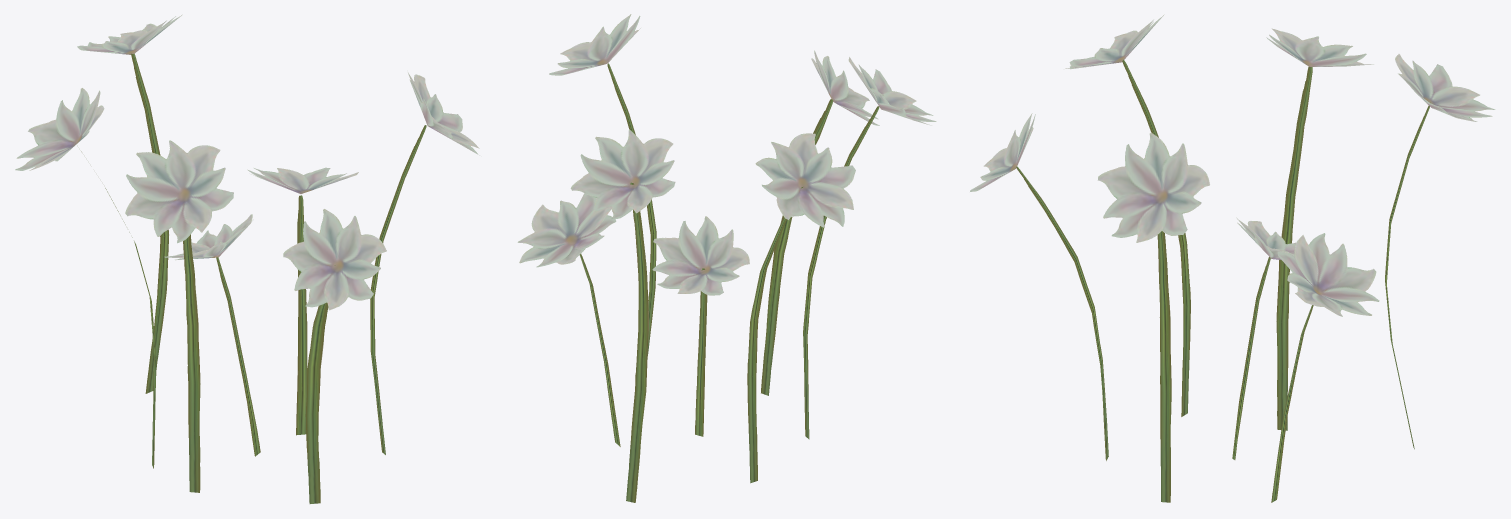
The model's file is SM_Ground_White_Flower_A.fbx.
3 views of the same model, side by side, from view 1: azimuth 30°, elevation 25°; view 2: azimuth 150°, elevation 25°; view 3: azimuth 270°, elevation 25° (orthographic). The views are drawn at different scales.
Parts seen in each view (by area): view 1: SM_Ground_White_Flower_A_LOD0; view 2: SM_Ground_White_Flower_A_LOD0; view 3: SM_Ground_White_Flower_A_LOD0.
Part boxes in pixels (x1,y1,x2,y2): SM_Ground_White_Flower_A_LOD0: (15, 14, 479, 503); SM_Ground_White_Flower_A_LOD0: (517, 14, 936, 502); SM_Ground_White_Flower_A_LOD0: (970, 14, 1495, 502).
Size of the model in its own units: 36.28 by 42.78 by 35.3.
Materials: 1 (1 with a texture image).
